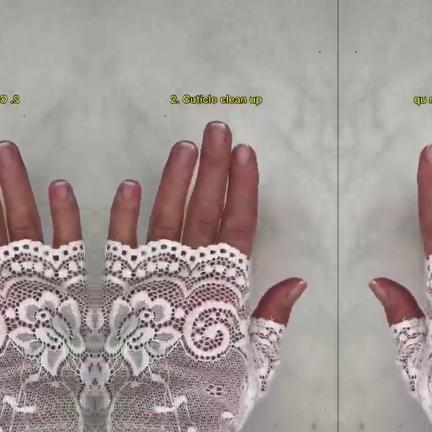Nail: (173, 142, 194, 166), (287, 281, 307, 305), (367, 281, 387, 305), (207, 122, 226, 146), (0, 142, 15, 166), (233, 144, 250, 165), (120, 181, 134, 200), (54, 181, 68, 200), (424, 144, 432, 165)
